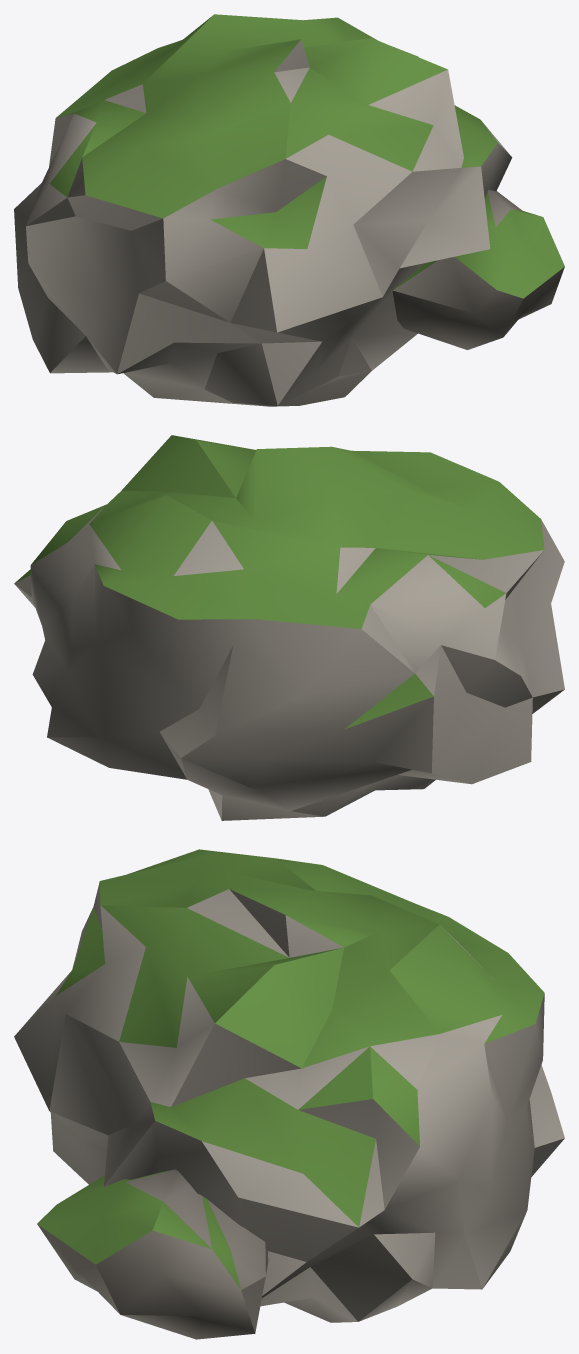
The model's file is rock_large.glb.
The picture shows the model from 3 angles, top to bottom: view 1: azimuth 30°, elevation 25°; view 2: azimuth 150°, elevation 25°; view 3: azimuth 270°, elevation 25°; orthographic projection. The views are drawn at different scales.
Parts seen in each view (by area): view 1: rock_large; view 2: rock_large; view 3: rock_large.
Boxes of the visible parts, x1=… form: rock_large: x1=14, y1=14, x2=564, y2=406; rock_large: x1=14, y1=435, x2=564, y2=820; rock_large: x1=14, y1=849, x2=564, y2=1339.
Bounding box in the file's own units: 2.88 × 1.95 × 2.45.
